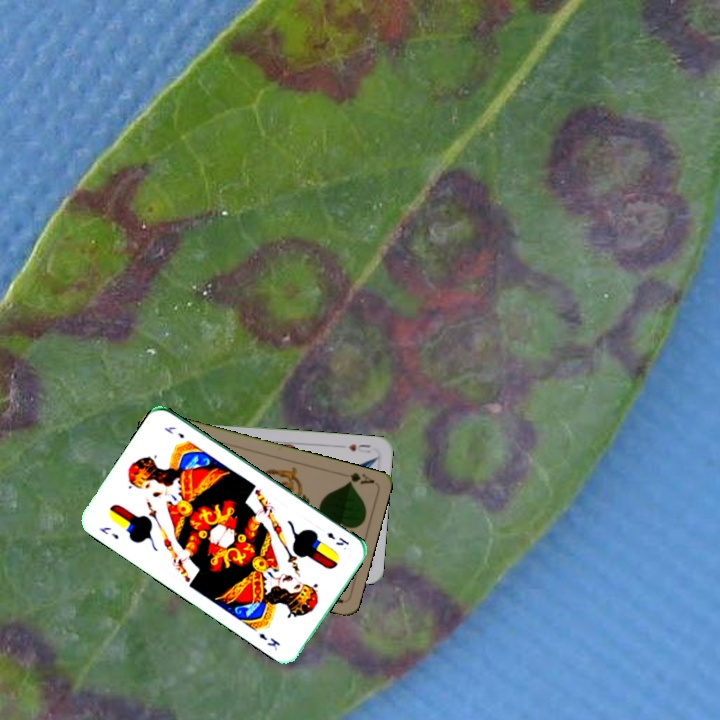EK: (322, 528, 351, 548), (95, 523, 121, 542)
GA: (343, 468, 376, 488)
HU: (344, 440, 373, 455)
